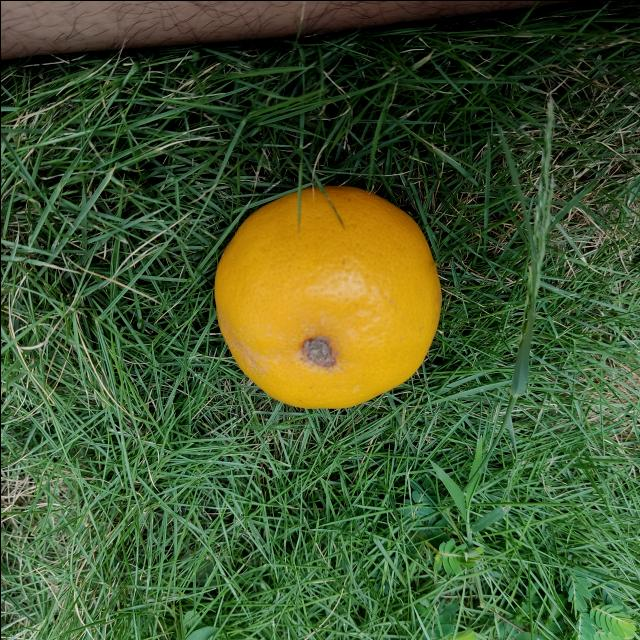orange: (212, 182, 446, 414)
